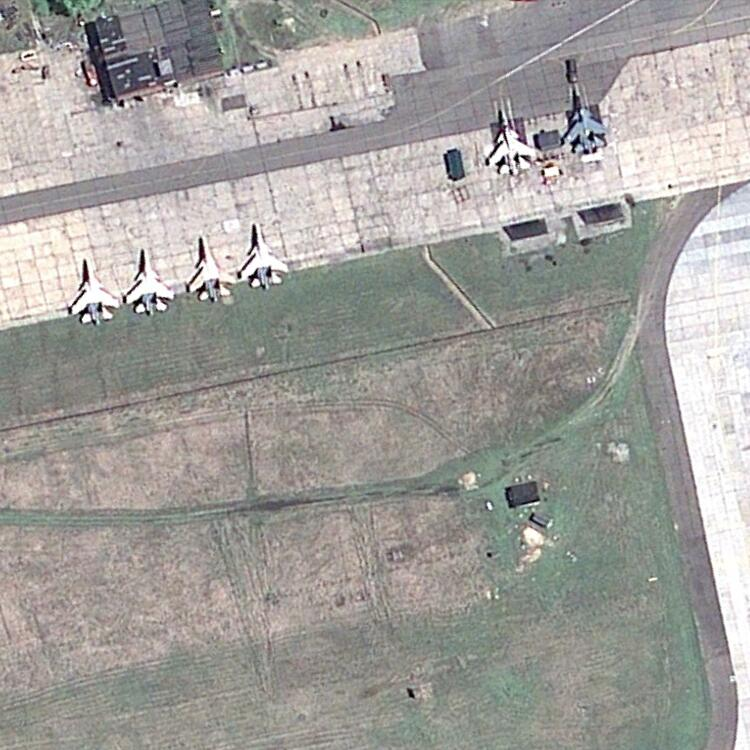A19: (559, 82, 614, 156), (482, 106, 539, 177), (181, 235, 238, 305), (234, 222, 292, 289), (122, 248, 176, 318), (62, 258, 118, 324)
